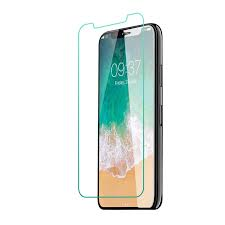iphone10: (92, 19, 165, 210)
